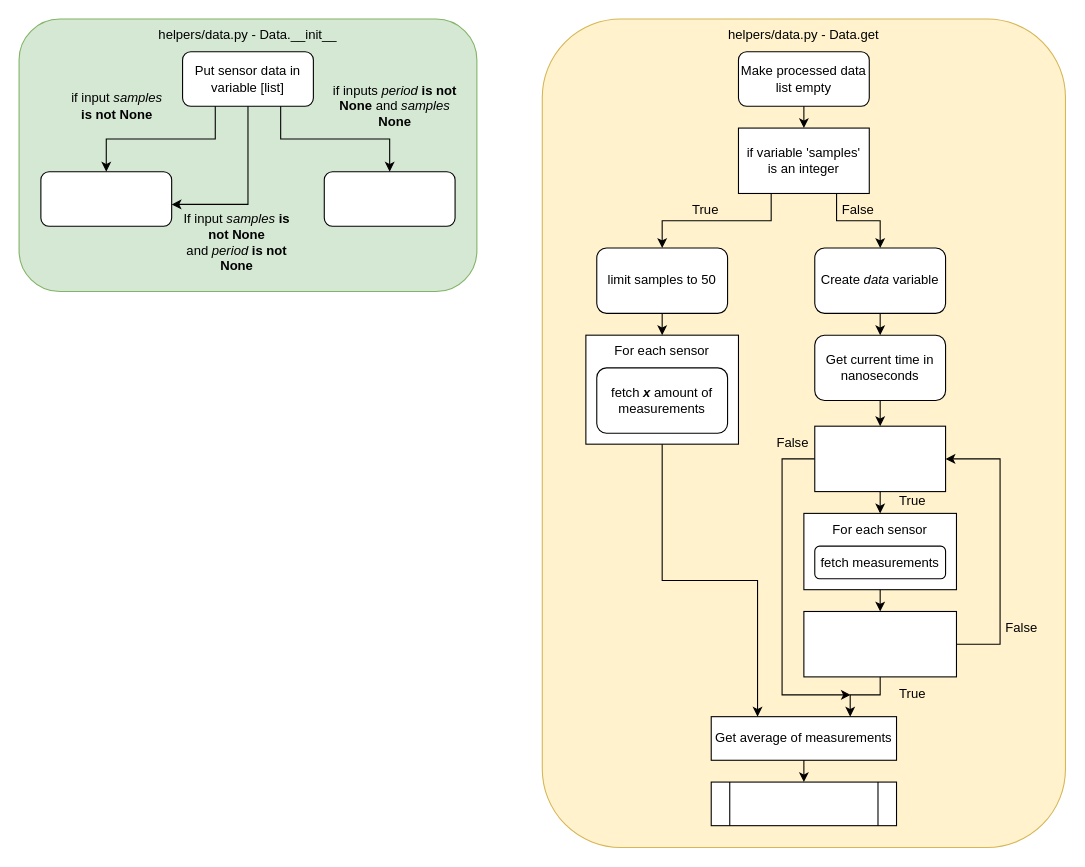
Some shapes in this 1085 by 867 pixel diagram are drawn without their labels. The shapes that lost their labels are listed below. From the top down, each one's centre as x and y in pixels, then its label:
At [106,198]: "set variable 'samples'".
At [389,198]: "set variable 'period'".
At [880,458]: "While time elapsed is not more than period time".
At [879,643]: "If measurements is equal to or more than 50".
At [803,803]: "Return average".
